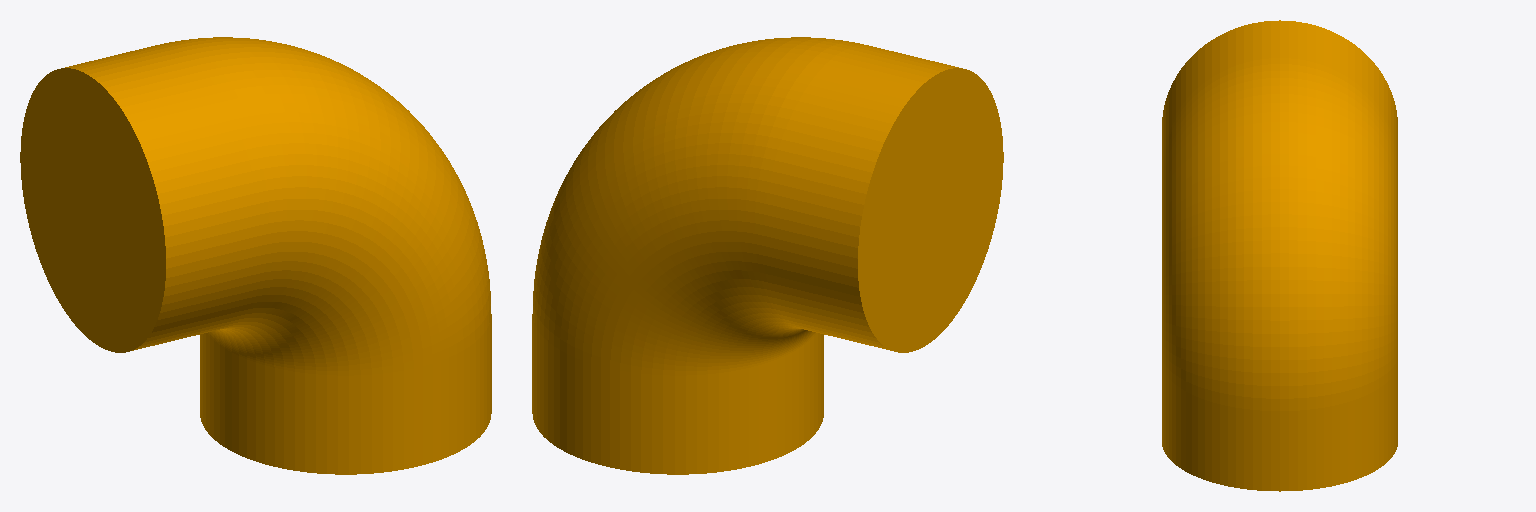
The robot description file, URDF, robot "tubec_c":
<?xml version="1.0" ?>
<robot name="tubec_c">

<link name="tubec_c_base_link">
  <inertial>
    <origin xyz="-0.005372085252755367 3.2650942281296154e-18 0.014627914747244637" rpy="0 0 0"/>
    <mass value="0.08541500008886366"/>
    <inertia ixx="7e-06" iyy="1e-05" izz="7e-06" ixy="0.0" iyz="0.0" ixz="3e-06"/>
  </inertial>
  <visual>
    <origin xyz="0 0 0" rpy="0 0 0"/>
    <geometry>
      <mesh filename="meshes/tubec_c_base_link.stl" scale="0.001 0.001 0.001"/>
    </geometry>
    <material name="silver"/>
  </visual>
  <collision>
    <origin xyz="0 0 0" rpy="0 0 0"/>
    <geometry>
      <mesh filename="meshes/tubec_c_base_link.stl" scale="0.001 0.001 0.001"/>
    </geometry>
  </collision>
</link>

<link name="tubec_c_AP1_1">
  <inertial>
    <origin xyz="3.469446951953614e-18 6.661338147750939e-18 -2.42861286636753e-17" rpy="0 0 0"/>
    <mass value="3.288200310757323e-05"/>
    <inertia ixx="0.0" iyy="0.0" izz="0.0" ixy="-0.0" iyz="-0.0" ixz="0.0"/>
  </inertial>
  
  
</link>

<link name="tubec_c_AP2_1">
  <inertial>
    <origin xyz="0.0 -3.081487911019583e-35 0.0" rpy="0 0 0"/>
    <mass value="3.288200310757323e-05"/>
    <inertia ixx="0.0" iyy="0.0" izz="0.0" ixy="0.0" iyz="0.0" ixz="0.0"/>
  </inertial>
  
  
</link>

<joint name="Rigid 3" type="fixed">
  <origin xyz="-0.02 0.0 0.02" rpy="0 0 0"/>
  <parent link="tubec_c_base_link"/>
  <child link="tubec_c_AP1_1"/>
</joint>

<joint name="Rigid 4" type="fixed">
  <origin xyz="0.0 0.0 0.0" rpy="0 0 0"/>
  <parent link="tubec_c_base_link"/>
  <child link="tubec_c_AP2_1"/>
</joint>

</robot>

--- What the picture shows (computed from the rendered views, not written in the file) ---
3 views of the same robot in one strip: view 1: azimuth 30°, elevation 25°; view 2: azimuth 150°, elevation 25°; view 3: azimuth 270°, elevation 25° (orthographic).
Robot: tubec_c — 3 links, 2 joints (2 fixed); root link tubec_c_base_link; default pose: all joints at 0.
Links seen in each view (by area): view 1: tubec_c_base_link; view 2: tubec_c_base_link; view 3: tubec_c_base_link.
Link boxes in pixels (x1=…): tubec_c_base_link: x1=20, y1=37, x2=491, y2=474; tubec_c_base_link: x1=532, y1=37, x2=1003, y2=474; tubec_c_base_link: x1=1162, y1=20, x2=1397, y2=491.
Size in the robot's own frame: 0.03 by 0.02 by 0.03 metres.
Meshes: 1 distinct files referenced, 1 mesh visuals loaded (1 binary STL).